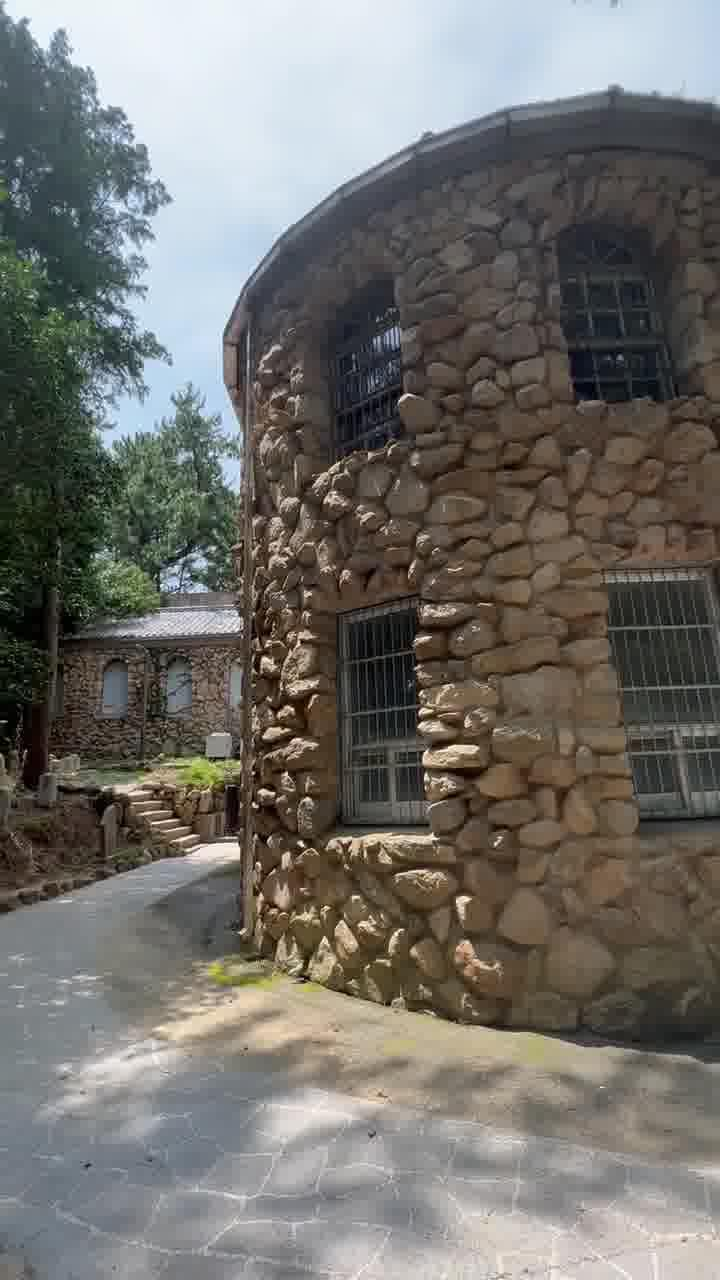building: (214, 88, 720, 1002)
